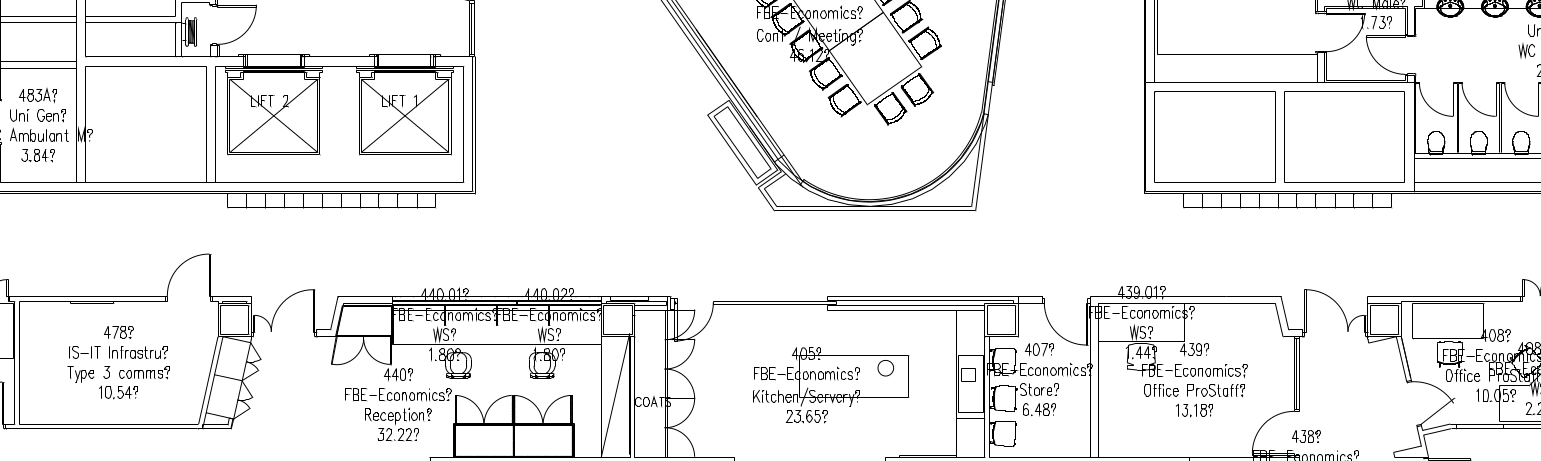door: (1300, 276, 1367, 342), (159, 240, 214, 311), (1394, 373, 1458, 428), (1236, 408, 1301, 461), (253, 285, 318, 337), (328, 327, 393, 379), (1041, 296, 1088, 351), (1319, 6, 1366, 61), (1362, 30, 1407, 79), (1413, 76, 1458, 125), (1454, 77, 1499, 126), (1496, 76, 1541, 125), (212, 1, 262, 45)
